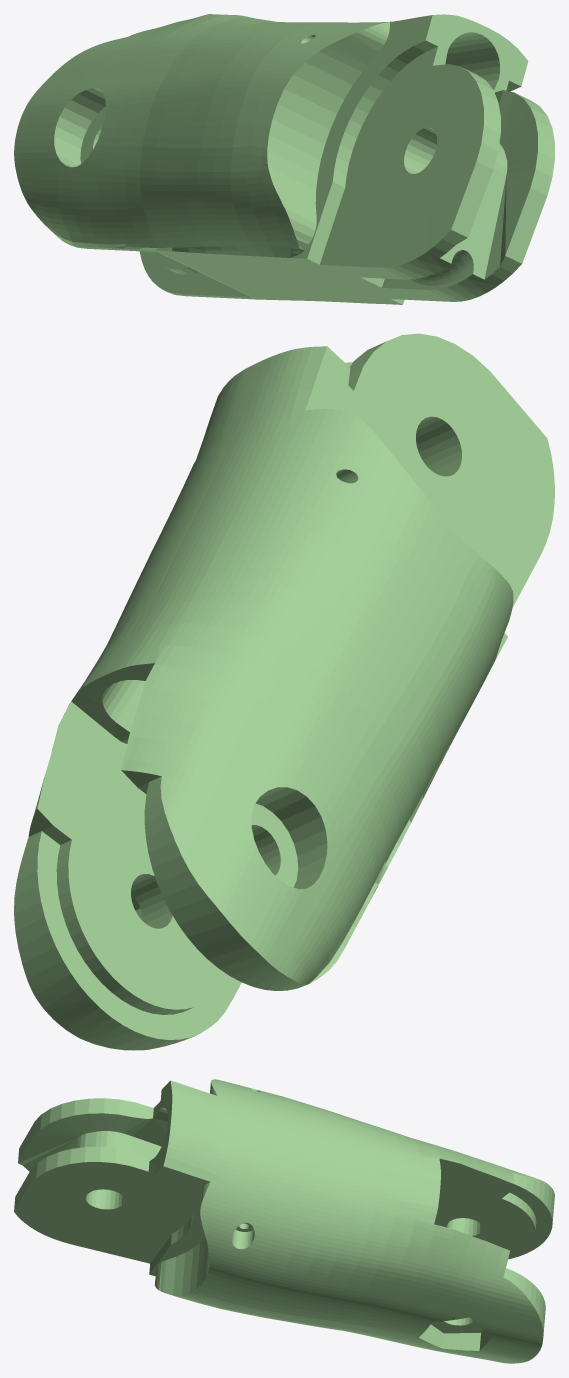
Rendered from i02_leftHand_pinkyPhal_visual.obj.
3 renders of one model, top to bottom at view 1: azimuth 30°, elevation 25°; view 2: azimuth 150°, elevation 25°; view 3: azimuth 270°, elevation 25°, orthographic. The views are drawn at different scales.
Parts seen in each view (by area): view 1: i02_leftHand_pinkyPhal_visual.001; view 2: i02_leftHand_pinkyPhal_visual.001; view 3: i02_leftHand_pinkyPhal_visual.001.
Boxes of the visible parts, x1=… form: i02_leftHand_pinkyPhal_visual.001: x1=14, y1=14, x2=554, y2=304; i02_leftHand_pinkyPhal_visual.001: x1=14, y1=333, x2=554, y2=1050; i02_leftHand_pinkyPhal_visual.001: x1=14, y1=1079, x2=554, y2=1363.
Size of the model in its own units: 0.2348 by 0.3094 by 0.4963.
